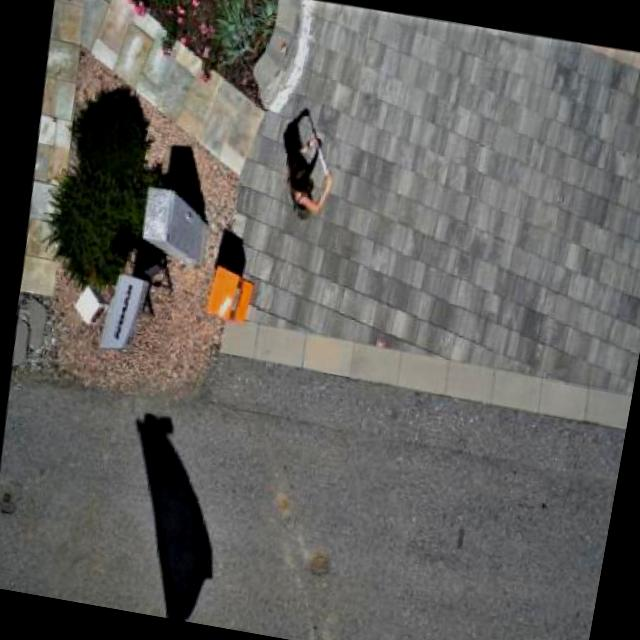Person: (270, 127, 344, 230)
